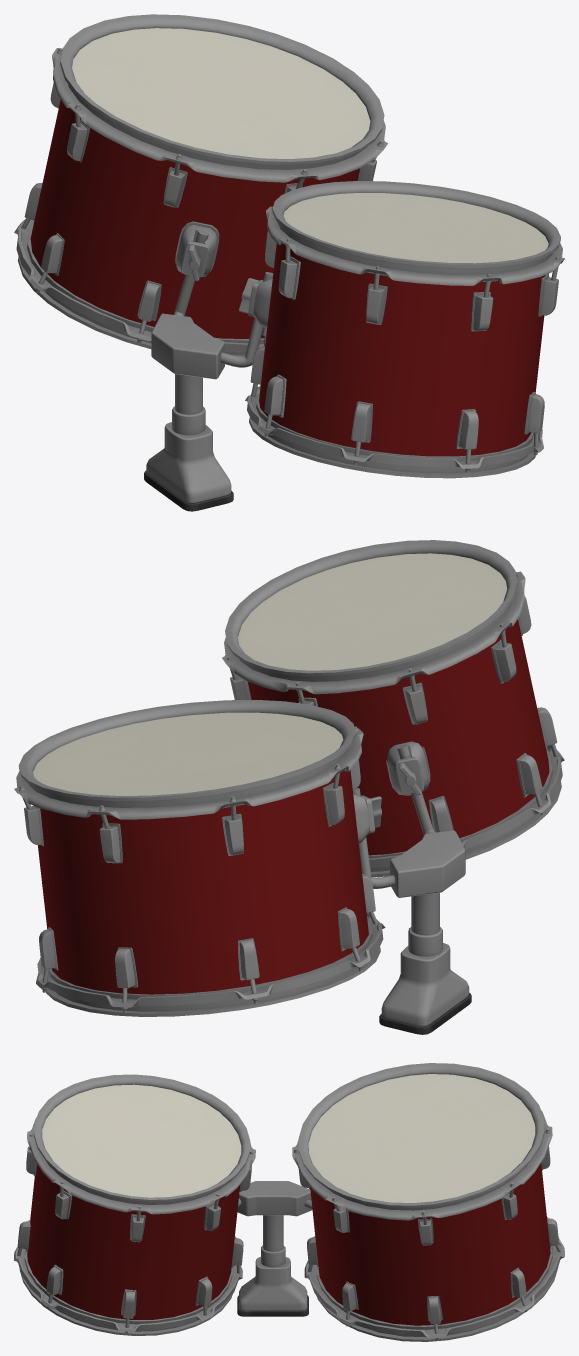
File: SM_Drum_Tomtoms_01.fbx
3 renders of one model, top to bottom at view 1: azimuth 30°, elevation 25°; view 2: azimuth 150°, elevation 25°; view 3: azimuth 270°, elevation 25°, orthographic. The views are drawn at different scales.
Visible parts, largest first — view 1: SM_Drum_Tomtoms_01_LOD0; view 2: SM_Drum_Tomtoms_01_LOD0; view 3: SM_Drum_Tomtoms_01_LOD0.
Boxes of the visible parts, left/top/right/bottom form: SM_Drum_Tomtoms_01_LOD0: left=14, top=14, right=564, bottom=511; SM_Drum_Tomtoms_01_LOD0: left=14, top=540, right=564, bottom=1034; SM_Drum_Tomtoms_01_LOD0: left=14, top=1063, right=564, bottom=1341.
Bounding box in the file's own units: 34.39 × 66.95 × 32.67.
Materials: 1 (1 with a texture image).
